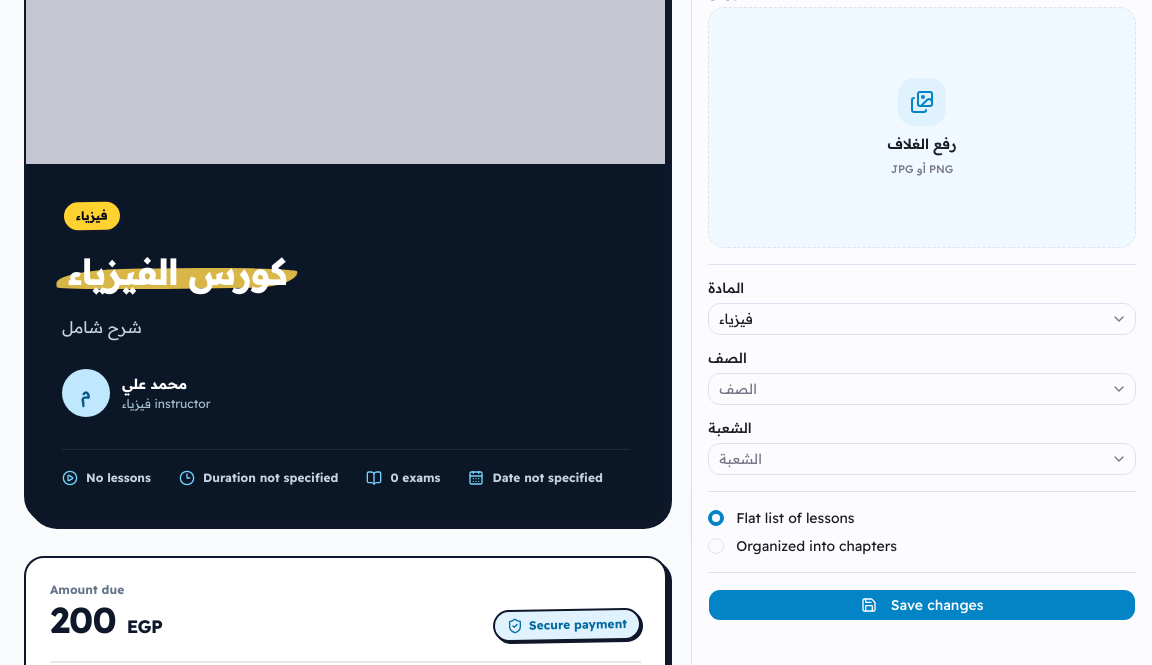
CourseWorkspace › falls back to generic save error when save fails with no useful message
(page scrolled)
Click the button "Save changes": click(922, 605) [708,589,1136,621]
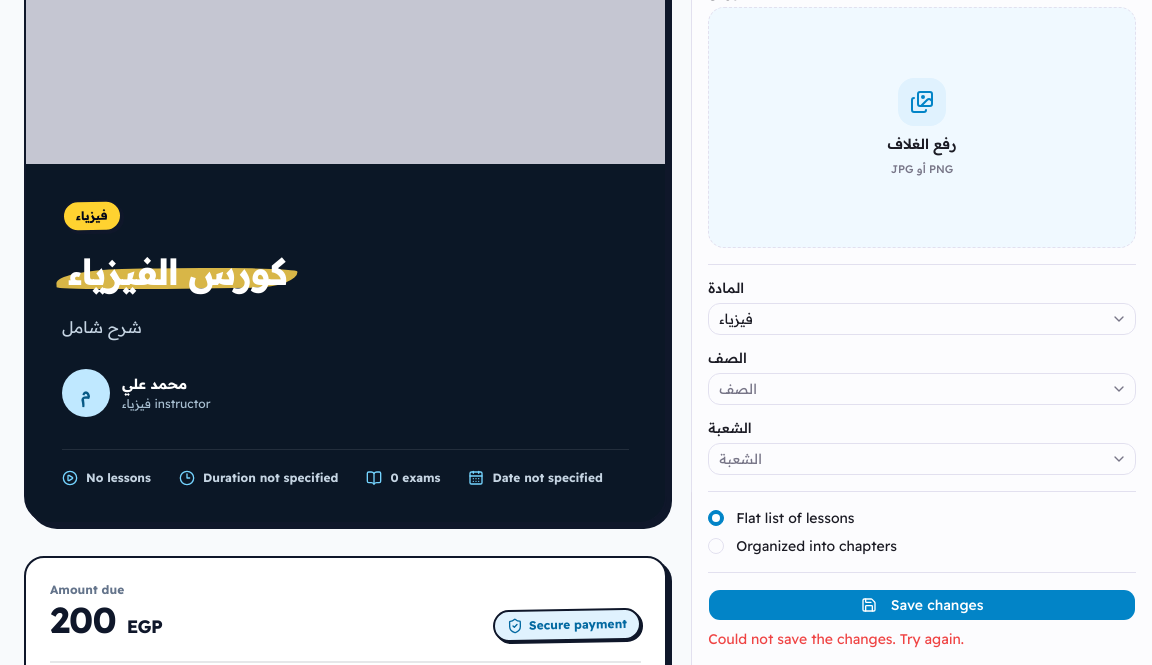
Expected: the message reads "Could not save the changes. Try again.", [708,630,964,648]
